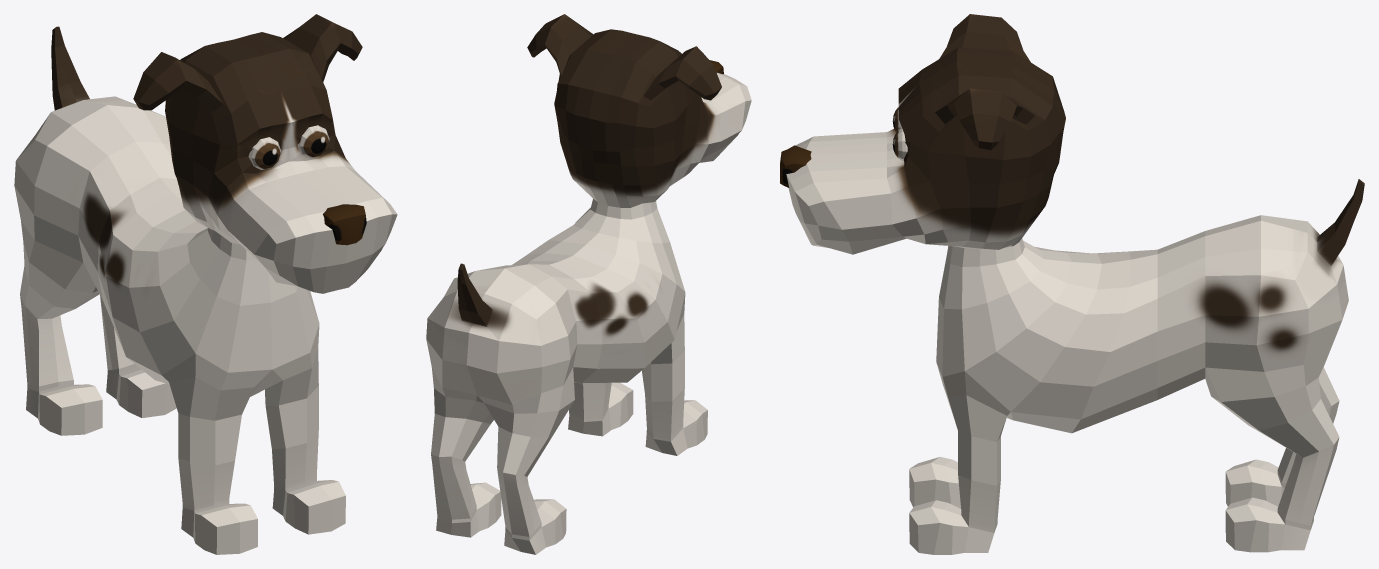
File: dog002.fbx
The picture shows the model from 3 angles, left to right: view 1: azimuth 30°, elevation 25°; view 2: azimuth 150°, elevation 25°; view 3: azimuth 270°, elevation 25°; orthographic projection. The views are drawn at different scales.
Parts seen in each view (by area): view 1: dog; view 2: dog; view 3: dog.
Boxes of the visible parts, box(x1,y1,x2,y2) form: dog: box(14, 14, 397, 554); dog: box(426, 14, 751, 554); dog: box(780, 14, 1364, 554).
Size of the model in its own units: 5.49 by 11.21 by 12.6.
Materials: 1 (1 with a texture image).
